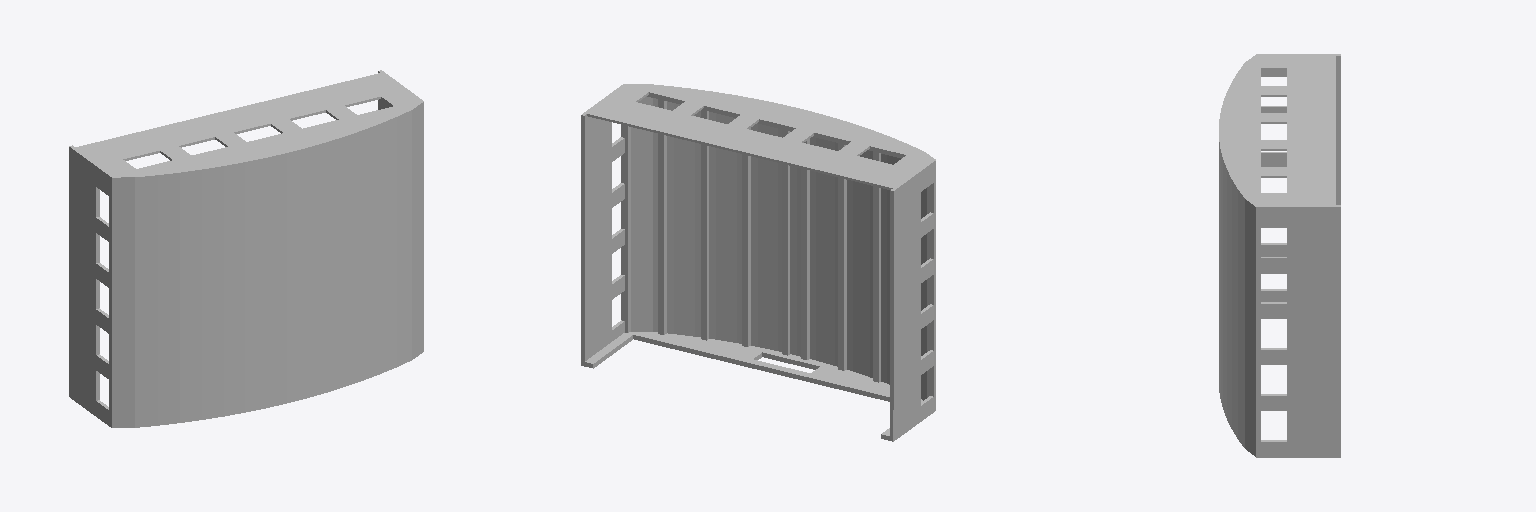
File: hangar.obj
The picture shows the model from 3 angles: view 1: azimuth 30°, elevation 25°; view 2: azimuth 150°, elevation 25°; view 3: azimuth 270°, elevation 25°; orthographic projection.
Parts seen in each view (by area): view 1: obj_0; view 2: obj_0; view 3: obj_0.
Part boxes in pixels (bbox=[...]): obj_0: bbox=[69, 70, 423, 427]; obj_0: bbox=[581, 84, 935, 441]; obj_0: bbox=[1219, 54, 1340, 457].
Bounding box in the file's own units: 150 × 115 × 51.